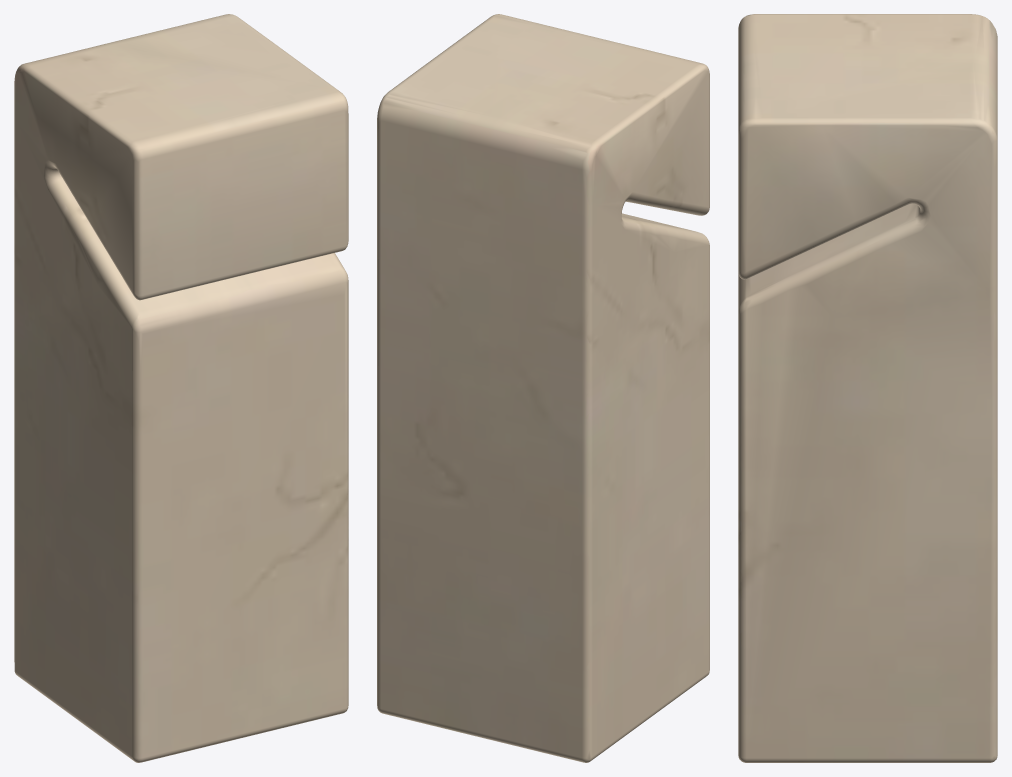
The model's file is jezdec_bily.glb.
The picture shows the model from 3 angles, left to right: view 1: azimuth 30°, elevation 25°; view 2: azimuth 150°, elevation 25°; view 3: azimuth 270°, elevation 25°; orthographic projection. The views are drawn at different scales.
Visible parts, largest first — view 1: jezdec_bily; view 2: jezdec_bily; view 3: jezdec_bily.
Boxes of the visible parts, box(x1,y1,x2,y2) form: jezdec_bily: box(14, 14, 348, 762); jezdec_bily: box(377, 14, 709, 762); jezdec_bily: box(738, 14, 997, 762).
Size of the model in its own units: 0.024 by 0.0658 by 0.024.
1 material, 1 textured.
